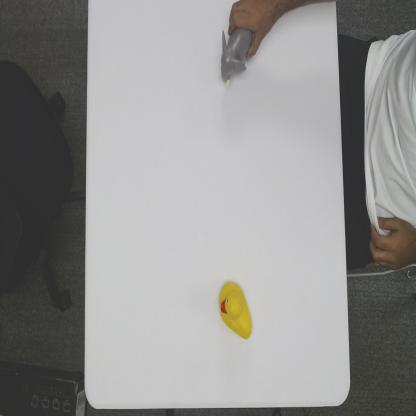Duck: (218, 279, 252, 340)
Elephant: (219, 25, 255, 89)
Hand: (228, 0, 283, 57)
